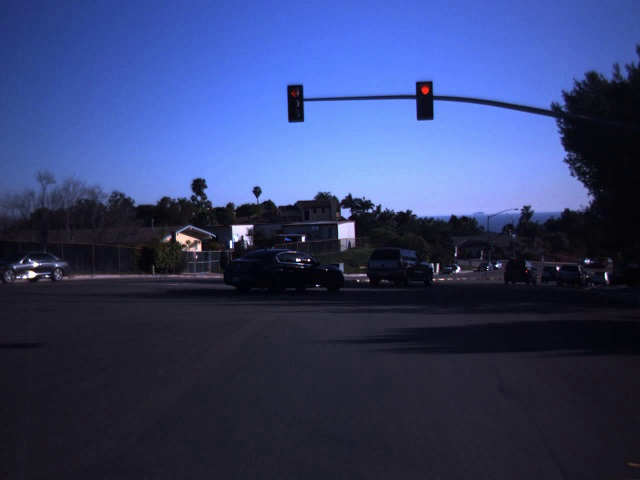car: (225, 249, 345, 295), (366, 248, 436, 285), (4, 251, 69, 281), (504, 259, 537, 283), (556, 263, 585, 285)
traffic light: (415, 80, 434, 119), (288, 84, 304, 123)
